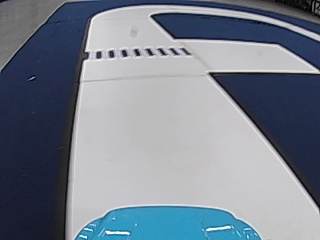CrossWalk: (86, 44, 190, 60)
